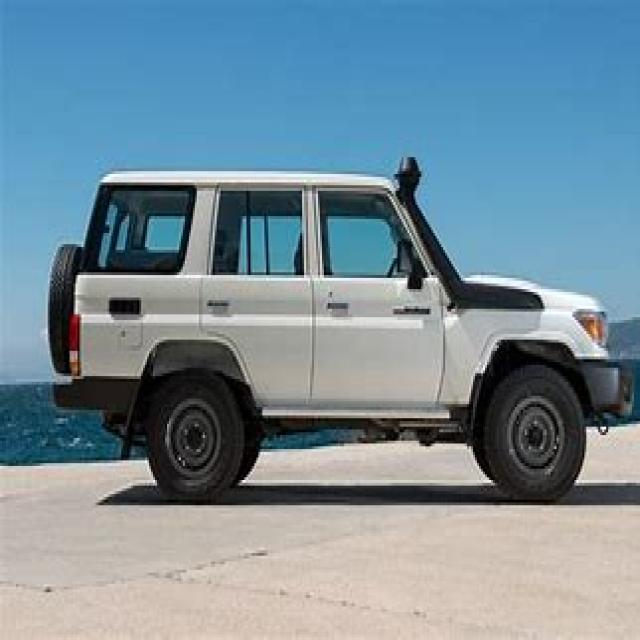light_vehicle: (38, 143, 628, 508)
